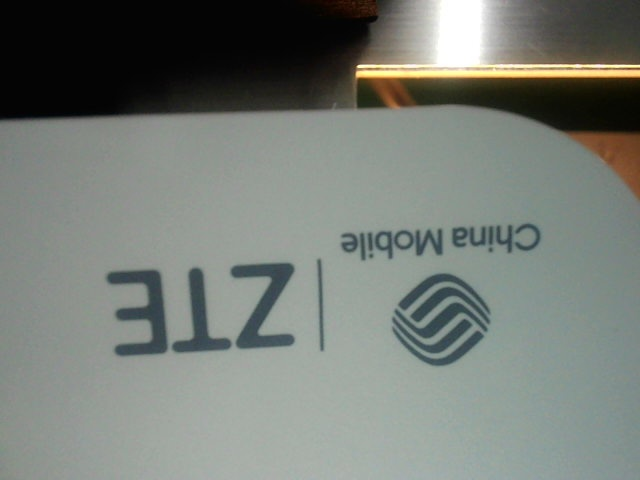AL_ZTEChinaMobile: (96, 221, 549, 367)
